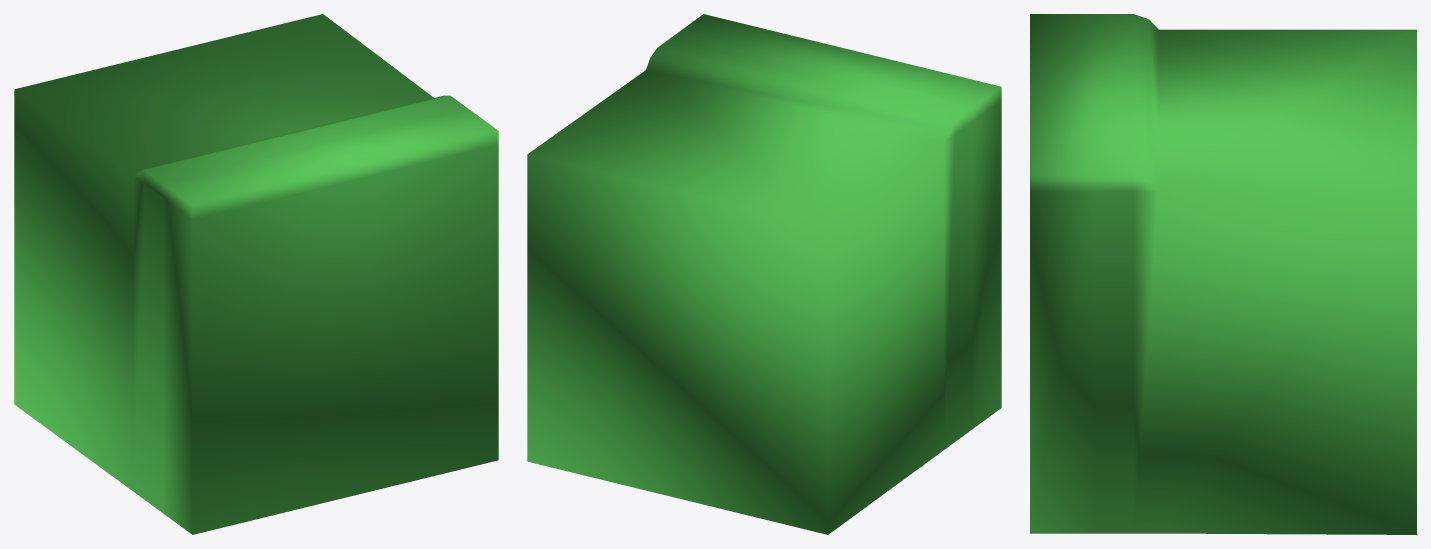
Rendered from WallTrim.fbx.
3 renders of one model, left to right at view 1: azimuth 30°, elevation 25°; view 2: azimuth 150°, elevation 25°; view 3: azimuth 270°, elevation 25°, orthographic. The views are drawn at different scales.
Parts seen in each view (by area): view 1: WallTrim:Box003; view 2: WallTrim:Box003; view 3: WallTrim:Box003.
Part boxes in pixels (bbox=[...]): WallTrim:Box003: bbox=[14, 14, 498, 534]; WallTrim:Box003: bbox=[527, 14, 1001, 534]; WallTrim:Box003: bbox=[1030, 14, 1416, 534].
Bounding box in the file's own units: 39.37 × 40.17 × 39.37.
